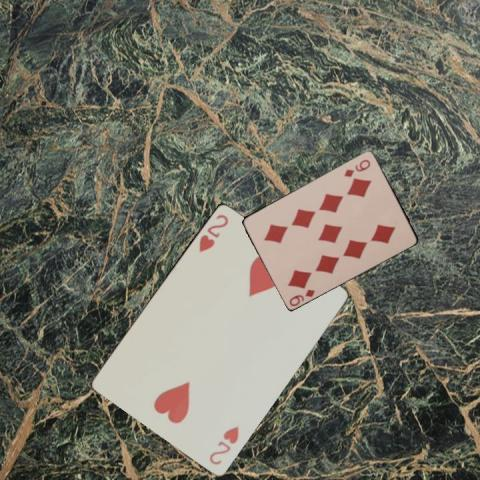2h: (206, 423, 241, 466), (195, 211, 230, 253)
9d: (341, 156, 372, 178), (286, 286, 317, 307)
